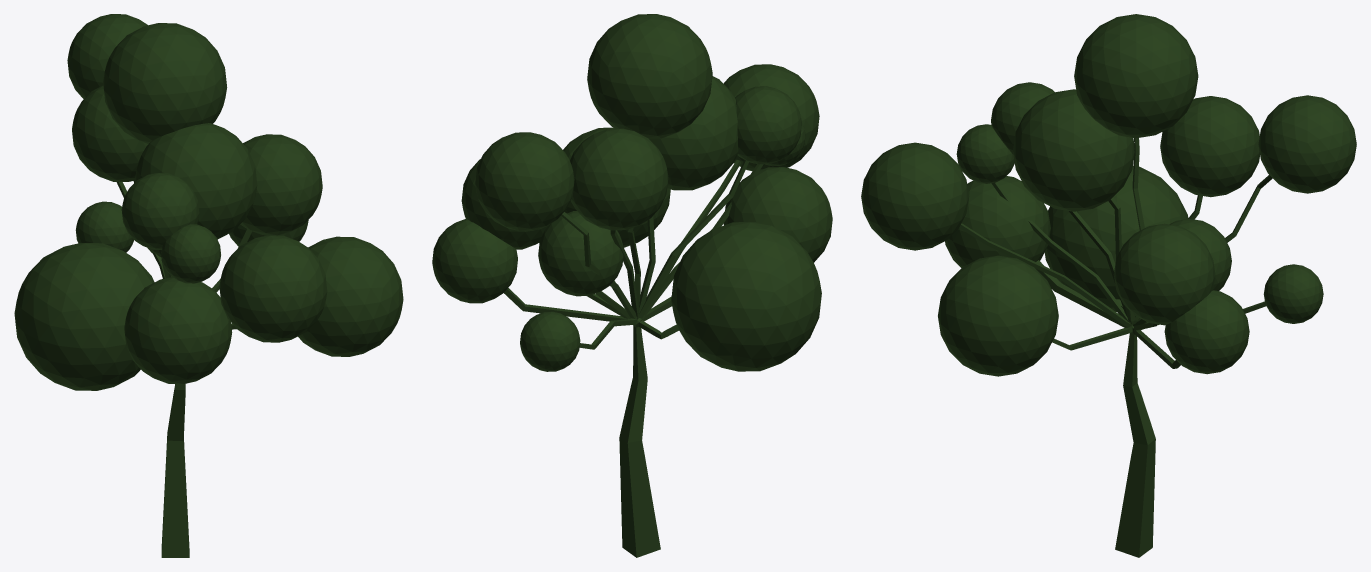
Rendered from green_tree-matx3.fbx.
3 views of the same model, side by side, from view 1: azimuth 30°, elevation 25°; view 2: azimuth 150°, elevation 25°; view 3: azimuth 270°, elevation 25° (orthographic).
Parts seen in each view (by area): view 1: tree.001; view 2: tree.001; view 3: tree.001.
Boxes of the visible parts, x1,y1,x2,y2 form: tree.001: [14, 14, 403, 557]; tree.001: [432, 14, 832, 557]; tree.001: [861, 14, 1356, 557].
Bounding box in the file's own units: 878 × 1363 × 1165.
